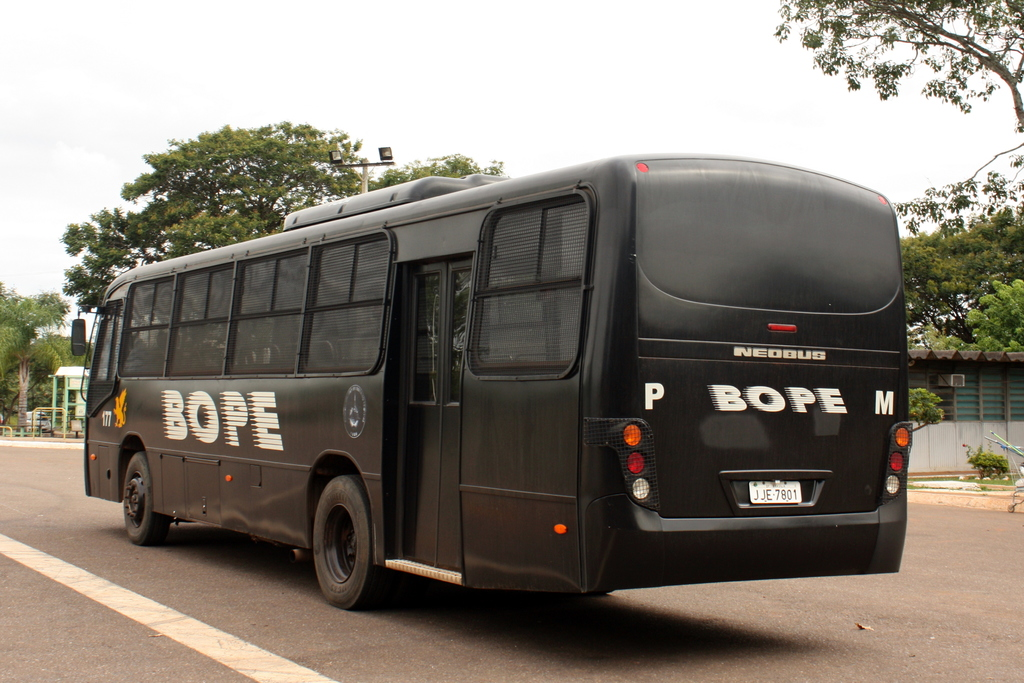Bus: (69, 168, 913, 615)
